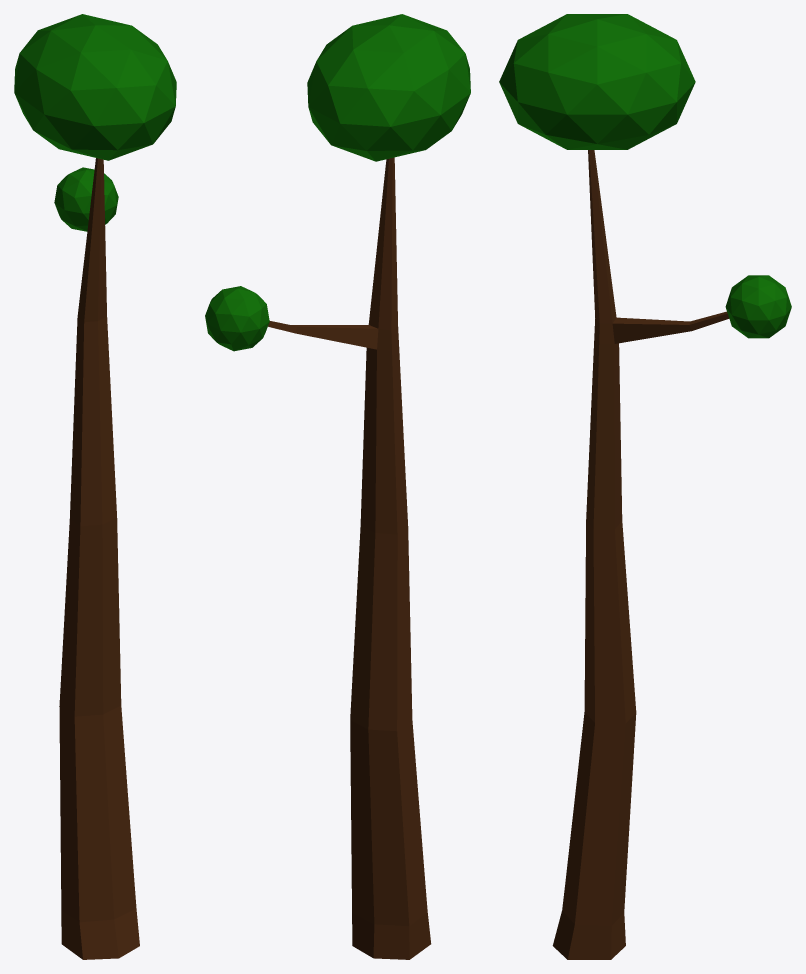
The model's file is _tree3.fbx.
The picture shows the model from 3 angles, left to right: view 1: azimuth 30°, elevation 25°; view 2: azimuth 150°, elevation 25°; view 3: azimuth 270°, elevation 25°; orthographic projection.
Visible parts, largest first — view 1: TreeTrunk, TreeStump; view 2: TreeTrunk, TreeStump; view 3: TreeTrunk, TreeStump.
Boxes of the visible parts, x1,y1,x2,y2 form: TreeTrunk: [14, 14, 176, 893]; TreeStump: [61, 880, 139, 959]; TreeTrunk: [205, 14, 470, 897]; TreeStump: [351, 884, 431, 959]; TreeTrunk: [499, 14, 791, 896]; TreeStump: [552, 883, 625, 959].
Bounding box in the file's own units: 577 × 3079 × 882.
